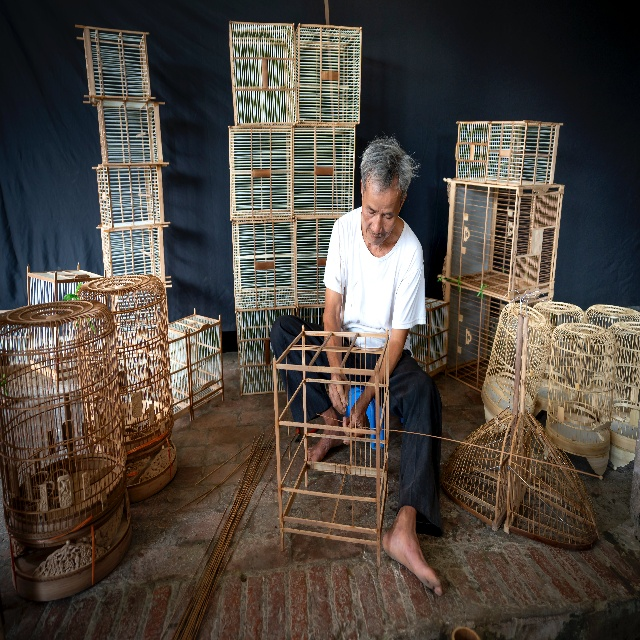Sin_guantes: (342, 394, 368, 446), (329, 370, 351, 415)
